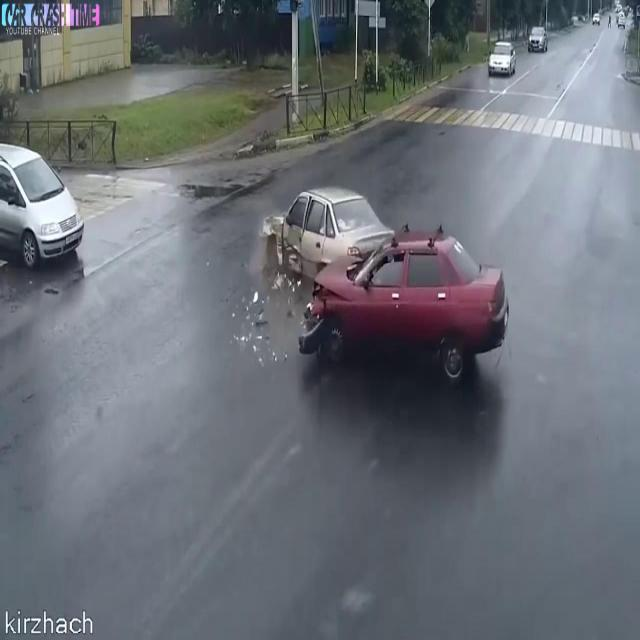accident: (229, 169, 517, 402)
